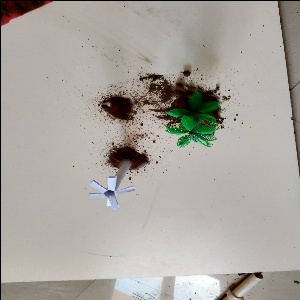plant: (157, 83, 221, 147)
weed: (86, 152, 144, 208)
